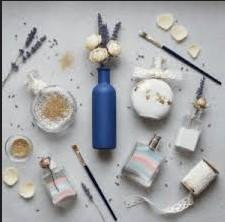bottle: (91, 64, 126, 164)
